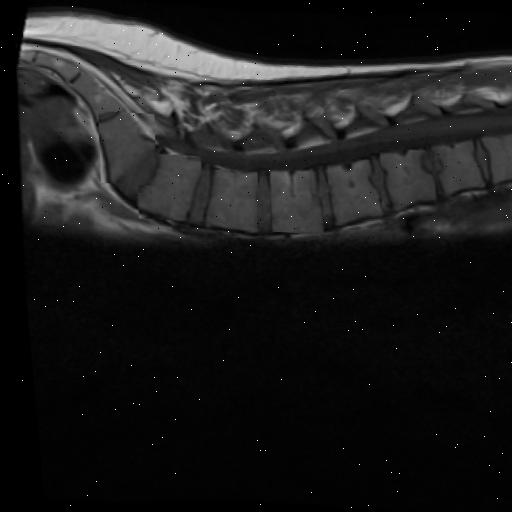L1: (376, 150, 432, 211)
L2: (324, 160, 377, 226)
L3: (266, 170, 318, 233)
L4: (203, 170, 253, 232)
L5: (133, 154, 197, 221)
S1: (95, 112, 152, 182)
